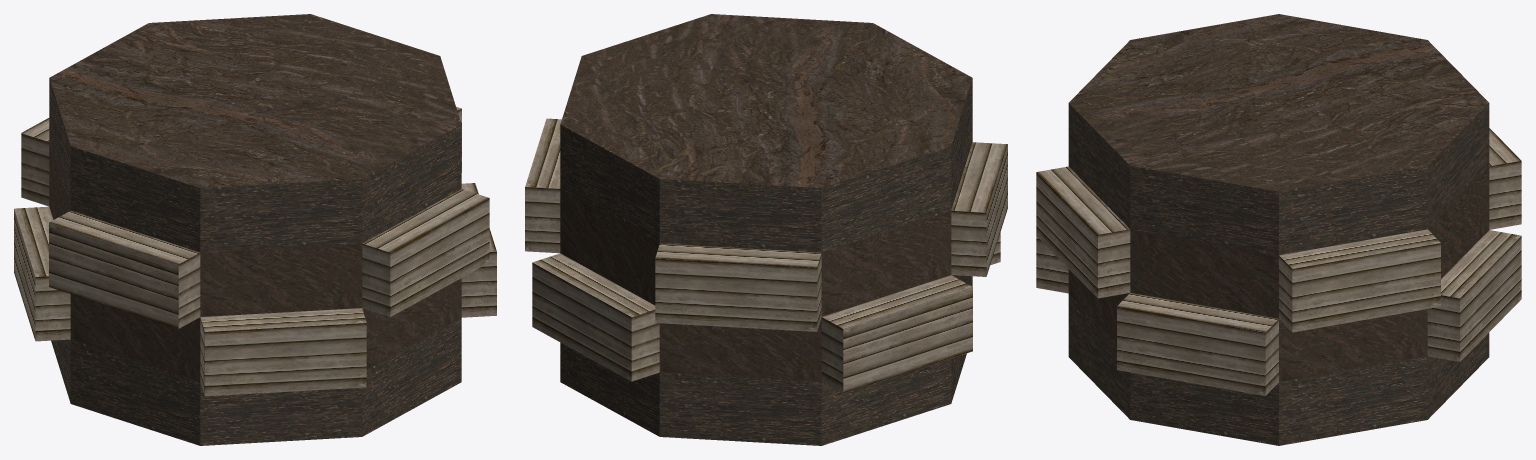
File: storage_tower_layerdenemeler.fbx
The picture shows the model from 3 angles, left to right: view 1: azimuth 30°, elevation 25°; view 2: azimuth 150°, elevation 25°; view 3: azimuth 270°, elevation 25°; orthographic projection.
Visible parts, largest first — view 1: Storage Layer of Tower; view 2: Storage Layer of Tower; view 3: Storage Layer of Tower.
Part boxes in pixels (left/top/right/bottom): Storage Layer of Tower: left=14, top=14, right=496, bottom=445; Storage Layer of Tower: left=525, top=14, right=1007, bottom=445; Storage Layer of Tower: left=1036, top=14, right=1521, bottom=445.
Bounding box in the file's own units: 692 × 400 × 692.
